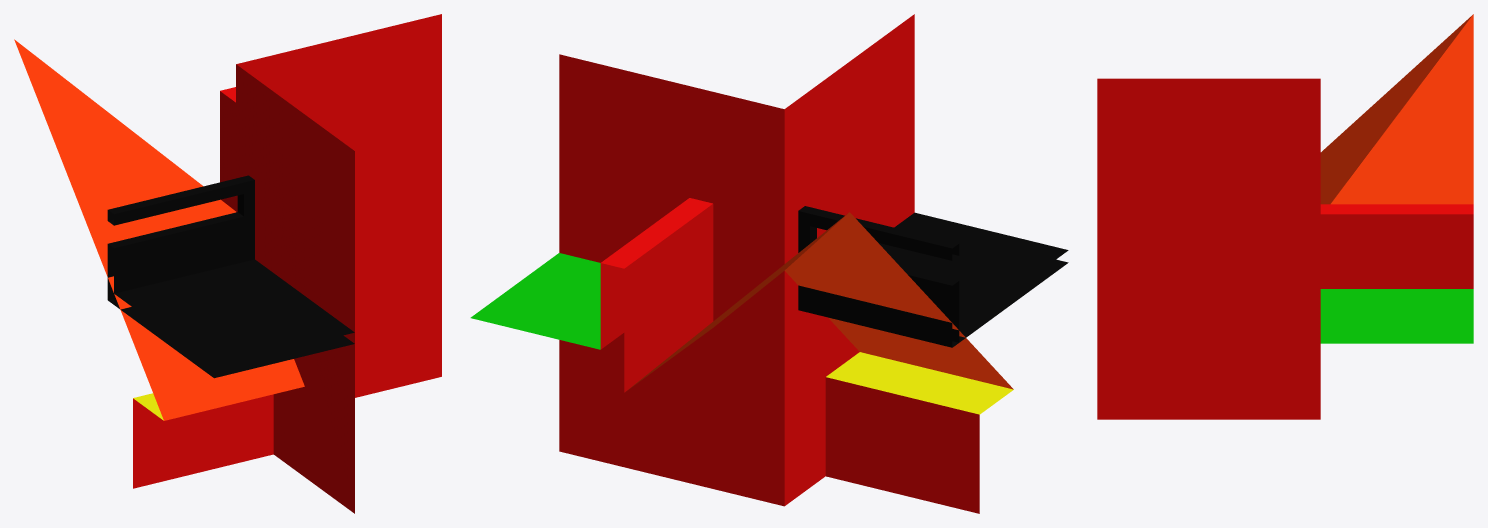
3 renders of one model, left to right at view 1: azimuth 30°, elevation 25°; view 2: azimuth 150°, elevation 25°; view 3: azimuth 270°, elevation 25°, orthographic. The views are drawn at different scales.
Parts seen in each view (by area): view 1: None_W_A_E_A_S_P_E_E_None; view 2: None_W_A_E_A_S_P_E_E_None; view 3: None_W_A_E_A_S_P_E_E_None.
Boxes of the visible parts, <box> form: None_W_A_E_A_S_P_E_E_None: <box>14,14,441,513</box>; None_W_A_E_A_S_P_E_E_None: <box>470,14,1068,513</box>; None_W_A_E_A_S_P_E_E_None: <box>1097,14,1473,419</box>.
Bounding box in the file's own units: 100 × 100 × 100.
